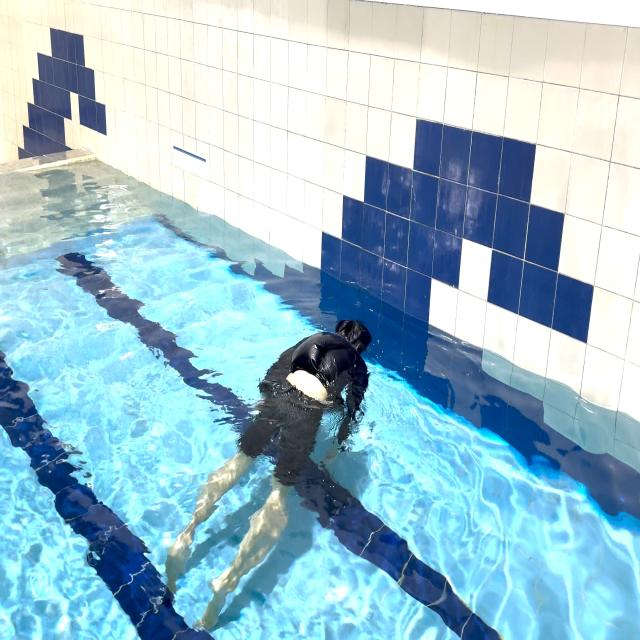Drowning: (159, 289, 375, 640)
